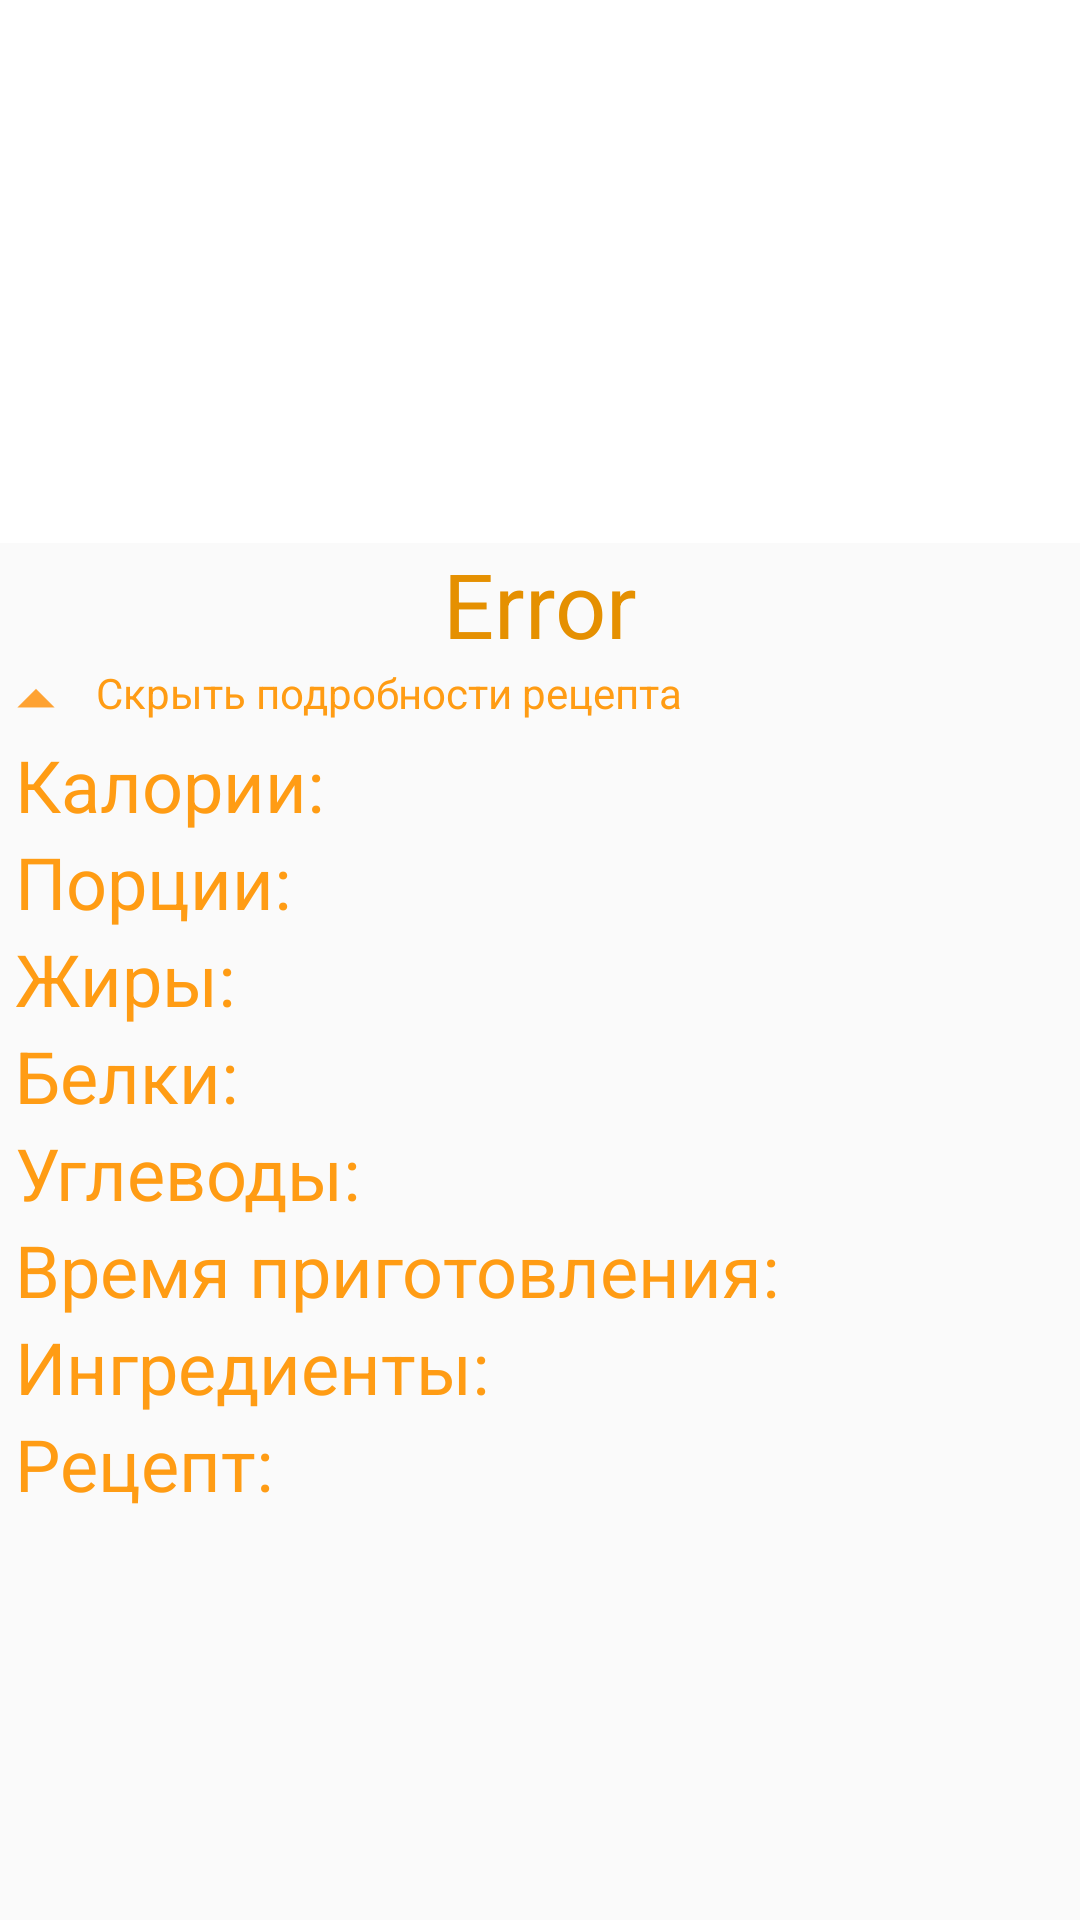

Point at icon controls on the screen. Image size 1080*1920, points as [x,y].
arrow: [36,698]
